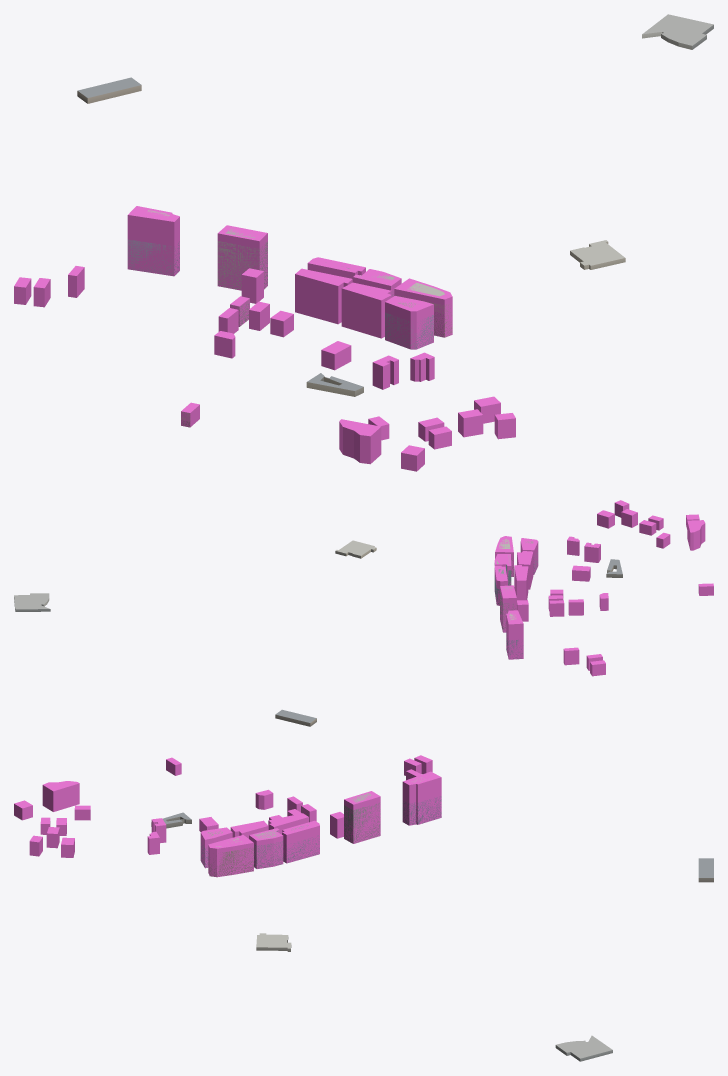
Rendered from bld_18_3.fbx.
The picture shows the model from 3 angles, top to bottom: view 1: azimuth 30°, elevation 25°; view 2: azimuth 150°, elevation 25°; view 3: azimuth 270°, elevation 25°; orthographic projection. The views are drawn at different scales.
Visible parts, largest first — view 1: bld_18_3_COL, bld_18_3_LOD0; view 2: bld_18_3_COL, bld_18_3_LOD0; view 3: bld_18_3_COL, bld_18_3_LOD0.
Boxes of the visible parts, x1=… form: bld_18_3_COL: x1=14, y1=206, x2=515, y2=471; bld_18_3_LOD0: x1=77, y1=14, x2=713, y2=427; bld_18_3_COL: x1=494, y1=500, x2=713, y2=676; bld_18_3_LOD0: x1=14, y1=539, x2=622, y2=726; bld_18_3_COL: x1=14, y1=755, x2=441, y2=877; bld_18_3_LOD0: x1=151, y1=777, x2=713, y2=1061.
Size of what is drawn, in the model's own units: 1946 by 125 by 1961.
